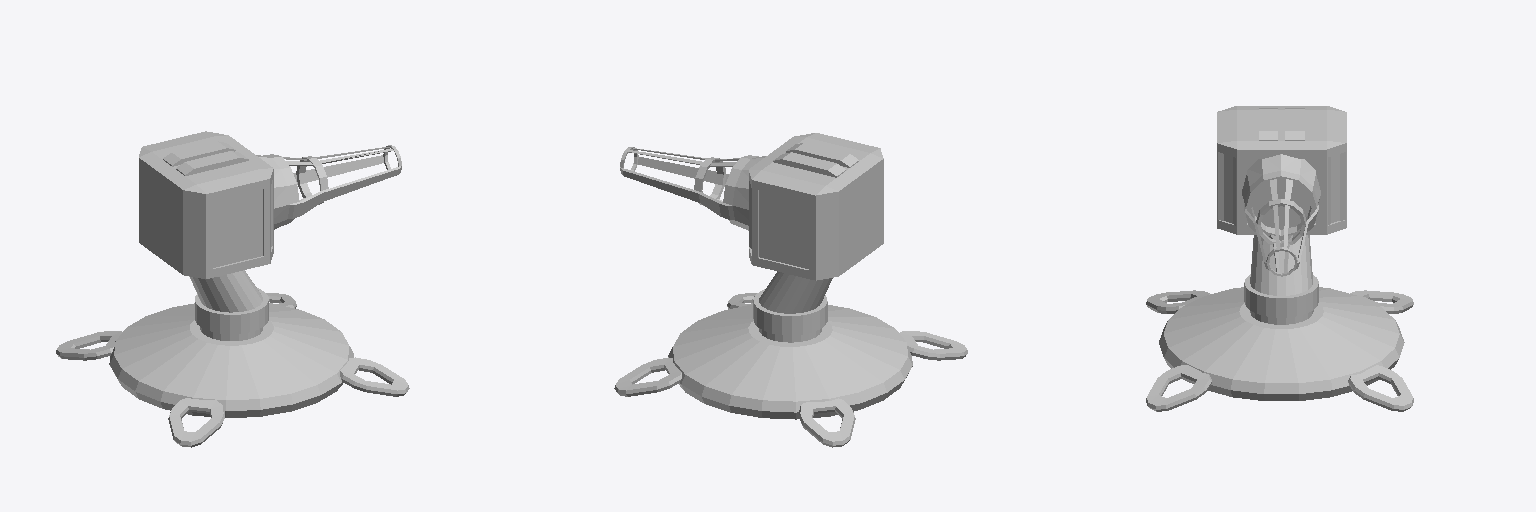
The model's file is laser.obj.
3 renders of one model, left to right at view 1: azimuth 30°, elevation 25°; view 2: azimuth 150°, elevation 25°; view 3: azimuth 270°, elevation 25°, orthographic.
Visible parts, largest first — view 1: Cube.002_Cube.003; view 2: Cube.002_Cube.003; view 3: Cube.002_Cube.003.
Boxes of the visible parts, box(x1,y1,x2,y2) form: Cube.002_Cube.003: box(56, 131, 409, 447); Cube.002_Cube.003: box(614, 133, 967, 447); Cube.002_Cube.003: box(1146, 106, 1413, 411).
Size of the model in its own units: 4 by 3.08 by 3.33.